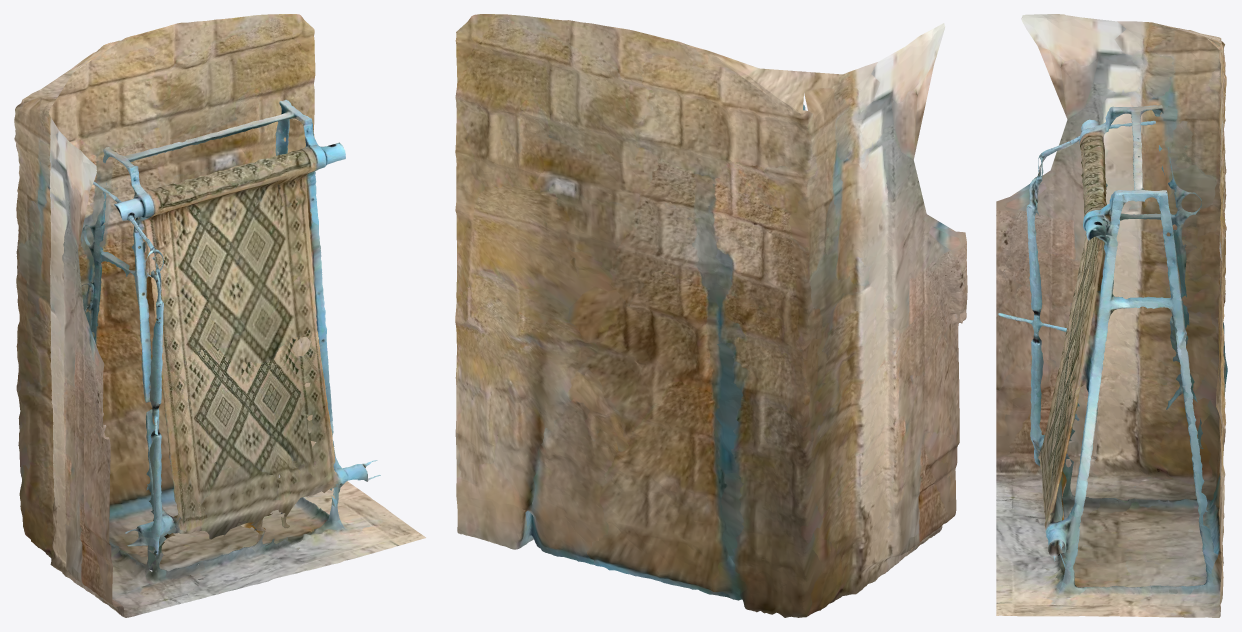
The model's file is traditional-loom.glb.
3 renders of one model, left to right at view 1: azimuth 30°, elevation 25°; view 2: azimuth 150°, elevation 25°; view 3: azimuth 270°, elevation 25°, orthographic. The views are drawn at different scales.
Parts seen in each view (by area): view 1: Object_2; view 2: Object_2; view 3: Object_2.
Part boxes in pixels (x1,y1,x2,y2): Object_2: (14, 14, 425, 617); Object_2: (455, 14, 967, 617); Object_2: (996, 14, 1227, 617).
Size of the model in its own units: 1.43 by 2 by 0.8744.
1 material, 1 textured.
